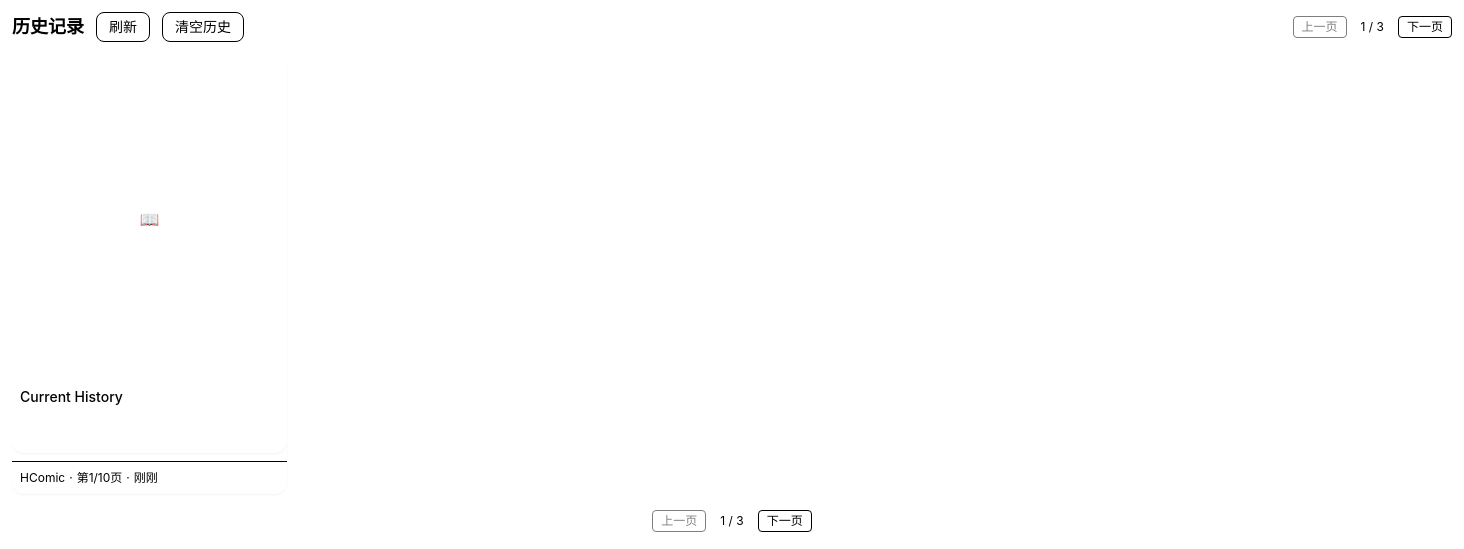
HistoryPage › shows cached history page immediately and refreshes it in background
The image size is (1464, 549).
Click the button "下一页" in the row of "历史记录".
click(1425, 27)  # box [1398,16,1452,38]
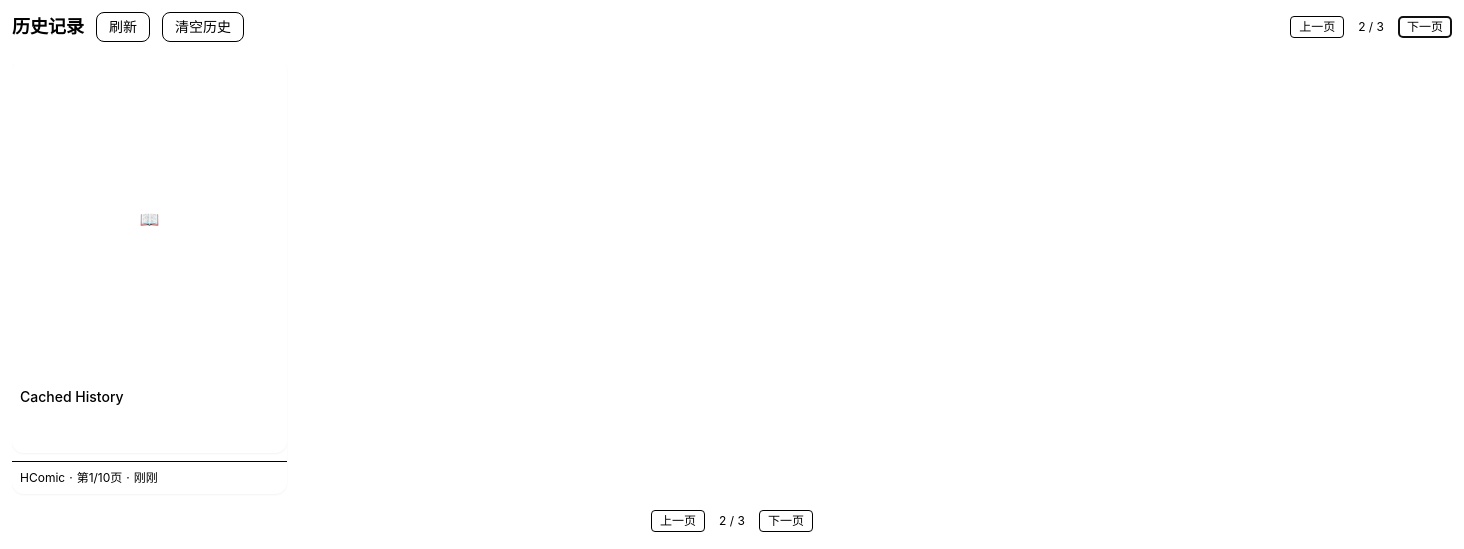
Now the heading "Cached History" is shown, box [20,388,124,405]
